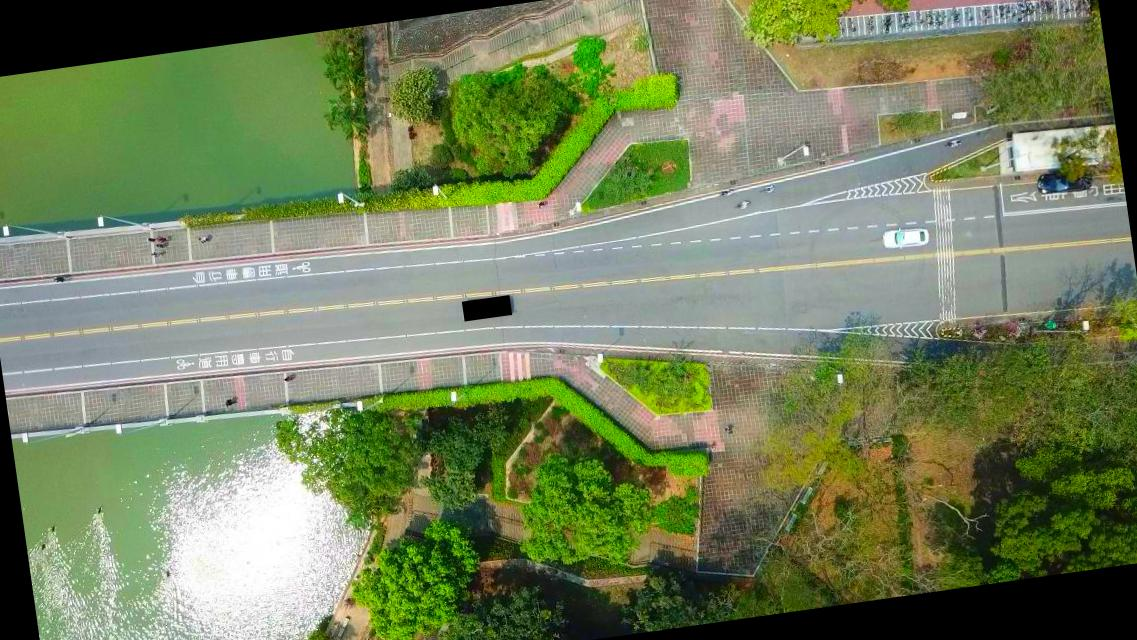vehicle: (1035, 166, 1093, 197), (881, 224, 930, 252)
